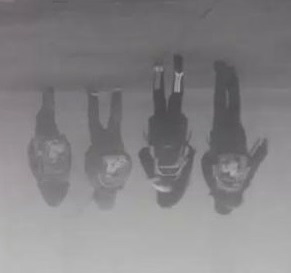person: (202, 59, 269, 216), (138, 56, 198, 209), (84, 85, 132, 213), (28, 86, 73, 206)
